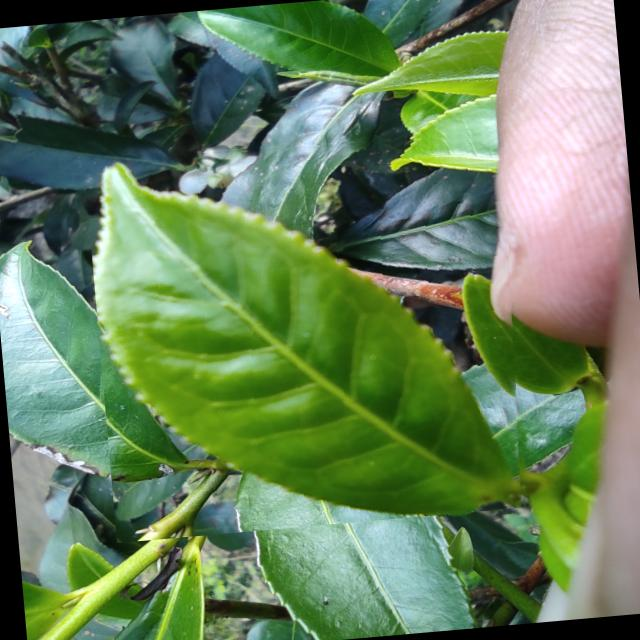Category B 2-4 days: (83, 123, 536, 542)
